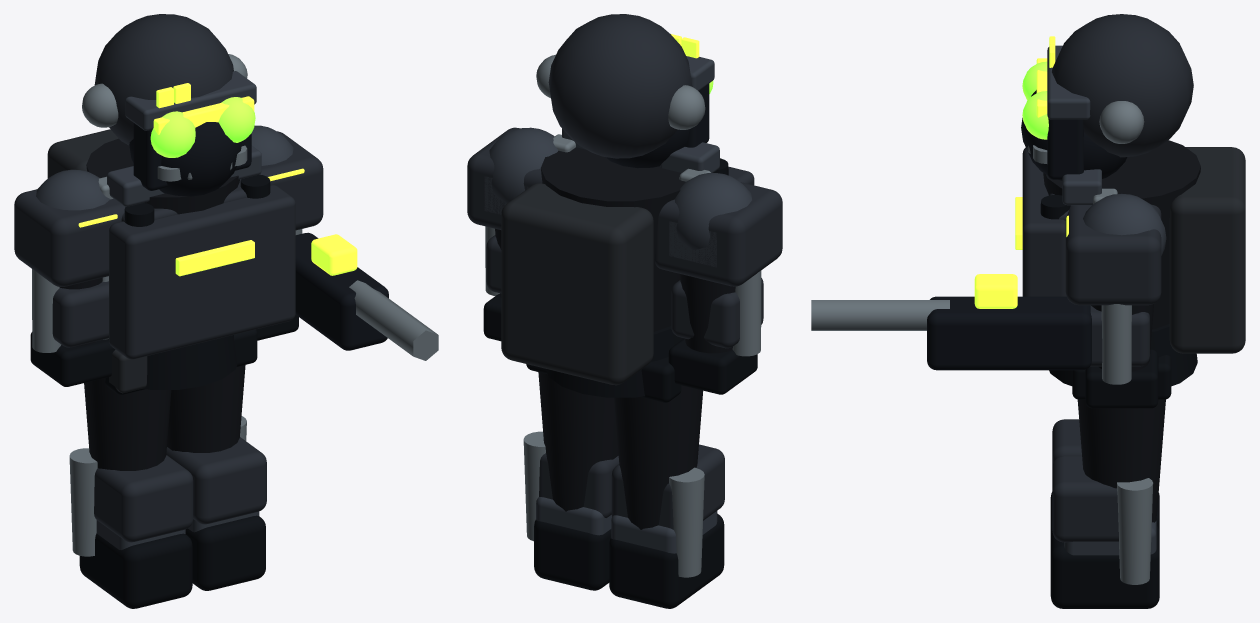
The model's file is sentinel_l02.glb.
3 views of the same model, side by side, from view 1: azimuth 30°, elevation 25°; view 2: azimuth 150°, elevation 25°; view 3: azimuth 270°, elevation 25° (orthographic). The views are drawn at different scales.
Visible parts, largest first — view 1: tactical_chest_plate, shaped_knee_guard (×2), trouser (×2), boot (×2), broad_shoulder_guard (×2), rounded_helmet, heavy_carbine, enclosed_mask, waist_flex, shoulder_joint (×2), forearm_plate, heavy_barrel (+18 smaller); view 2: field_pack, rounded_helmet, trouser (×2), boot (×2), broad_shoulder_guard (×2), body, shoulder_joint (×2), shin_frame (×2), shaped_knee_guard (×2), glove (×2), forearm_plate (×2), shin_plate (×2) (+10 smaller); view 3: field_pack, rounded_helmet, heavy_carbine, broad_shoulder_guard, trouser, shaped_knee_guard (×2), body, boot, tactical_chest_plate, heavy_barrel, shin_frame, glove (+13 smaller).
Part boxes in pixels (x1,y1,x2,y2): tactical_chest_plate: [109, 185, 295, 359]; shaped_knee_guard (×2): [94, 437, 266, 542]; trouser (×2): [84, 365, 245, 470]; boot (×2): [79, 515, 265, 608]; broad_shoulder_guard (×2): [14, 131, 323, 287]; rounded_helmet: [94, 14, 233, 145]; heavy_carbine: [295, 232, 388, 350]; enclosed_mask: [129, 122, 241, 196]; waist_flex: [143, 335, 237, 389]; shoulder_joint (×2): [36, 125, 293, 210]; forearm_plate: [52, 281, 108, 347]; heavy_barrel: [349, 280, 438, 360]; field_pack: [501, 183, 653, 385]; rounded_helmet: [548, 14, 692, 158]; trouser (×2): [538, 372, 703, 529]; boot (×2): [534, 513, 724, 608]; broad_shoulder_guard (×2): [467, 127, 782, 286]; body: [541, 147, 685, 331]; shoulder_joint (×2): [489, 127, 751, 250]; shin_frame (×2): [523, 431, 704, 577]; shaped_knee_guard (×2): [539, 444, 724, 529]; glove (×2): [483, 294, 757, 394]; forearm_plate (×2): [486, 235, 763, 348]; shin_plate (×2): [536, 497, 717, 553]; field_pack: [1169, 147, 1245, 353]; rounded_helmet: [1052, 14, 1193, 157]; heavy_carbine: [927, 296, 1091, 370]; broad_shoulder_guard: [1065, 204, 1161, 305]; trouser: [1077, 399, 1165, 522]; shaped_knee_guard (×2): [1052, 419, 1118, 542]; body: [1043, 140, 1200, 329]; boot: [1050, 525, 1159, 608]; tactical_chest_plate: [1022, 147, 1066, 296]; heavy_barrel: [811, 300, 949, 330]; shin_frame: [1117, 478, 1153, 584]; glove: [1085, 349, 1158, 408].
Size of the model in its own units: 0.96 by 1.86 by 1.31.
